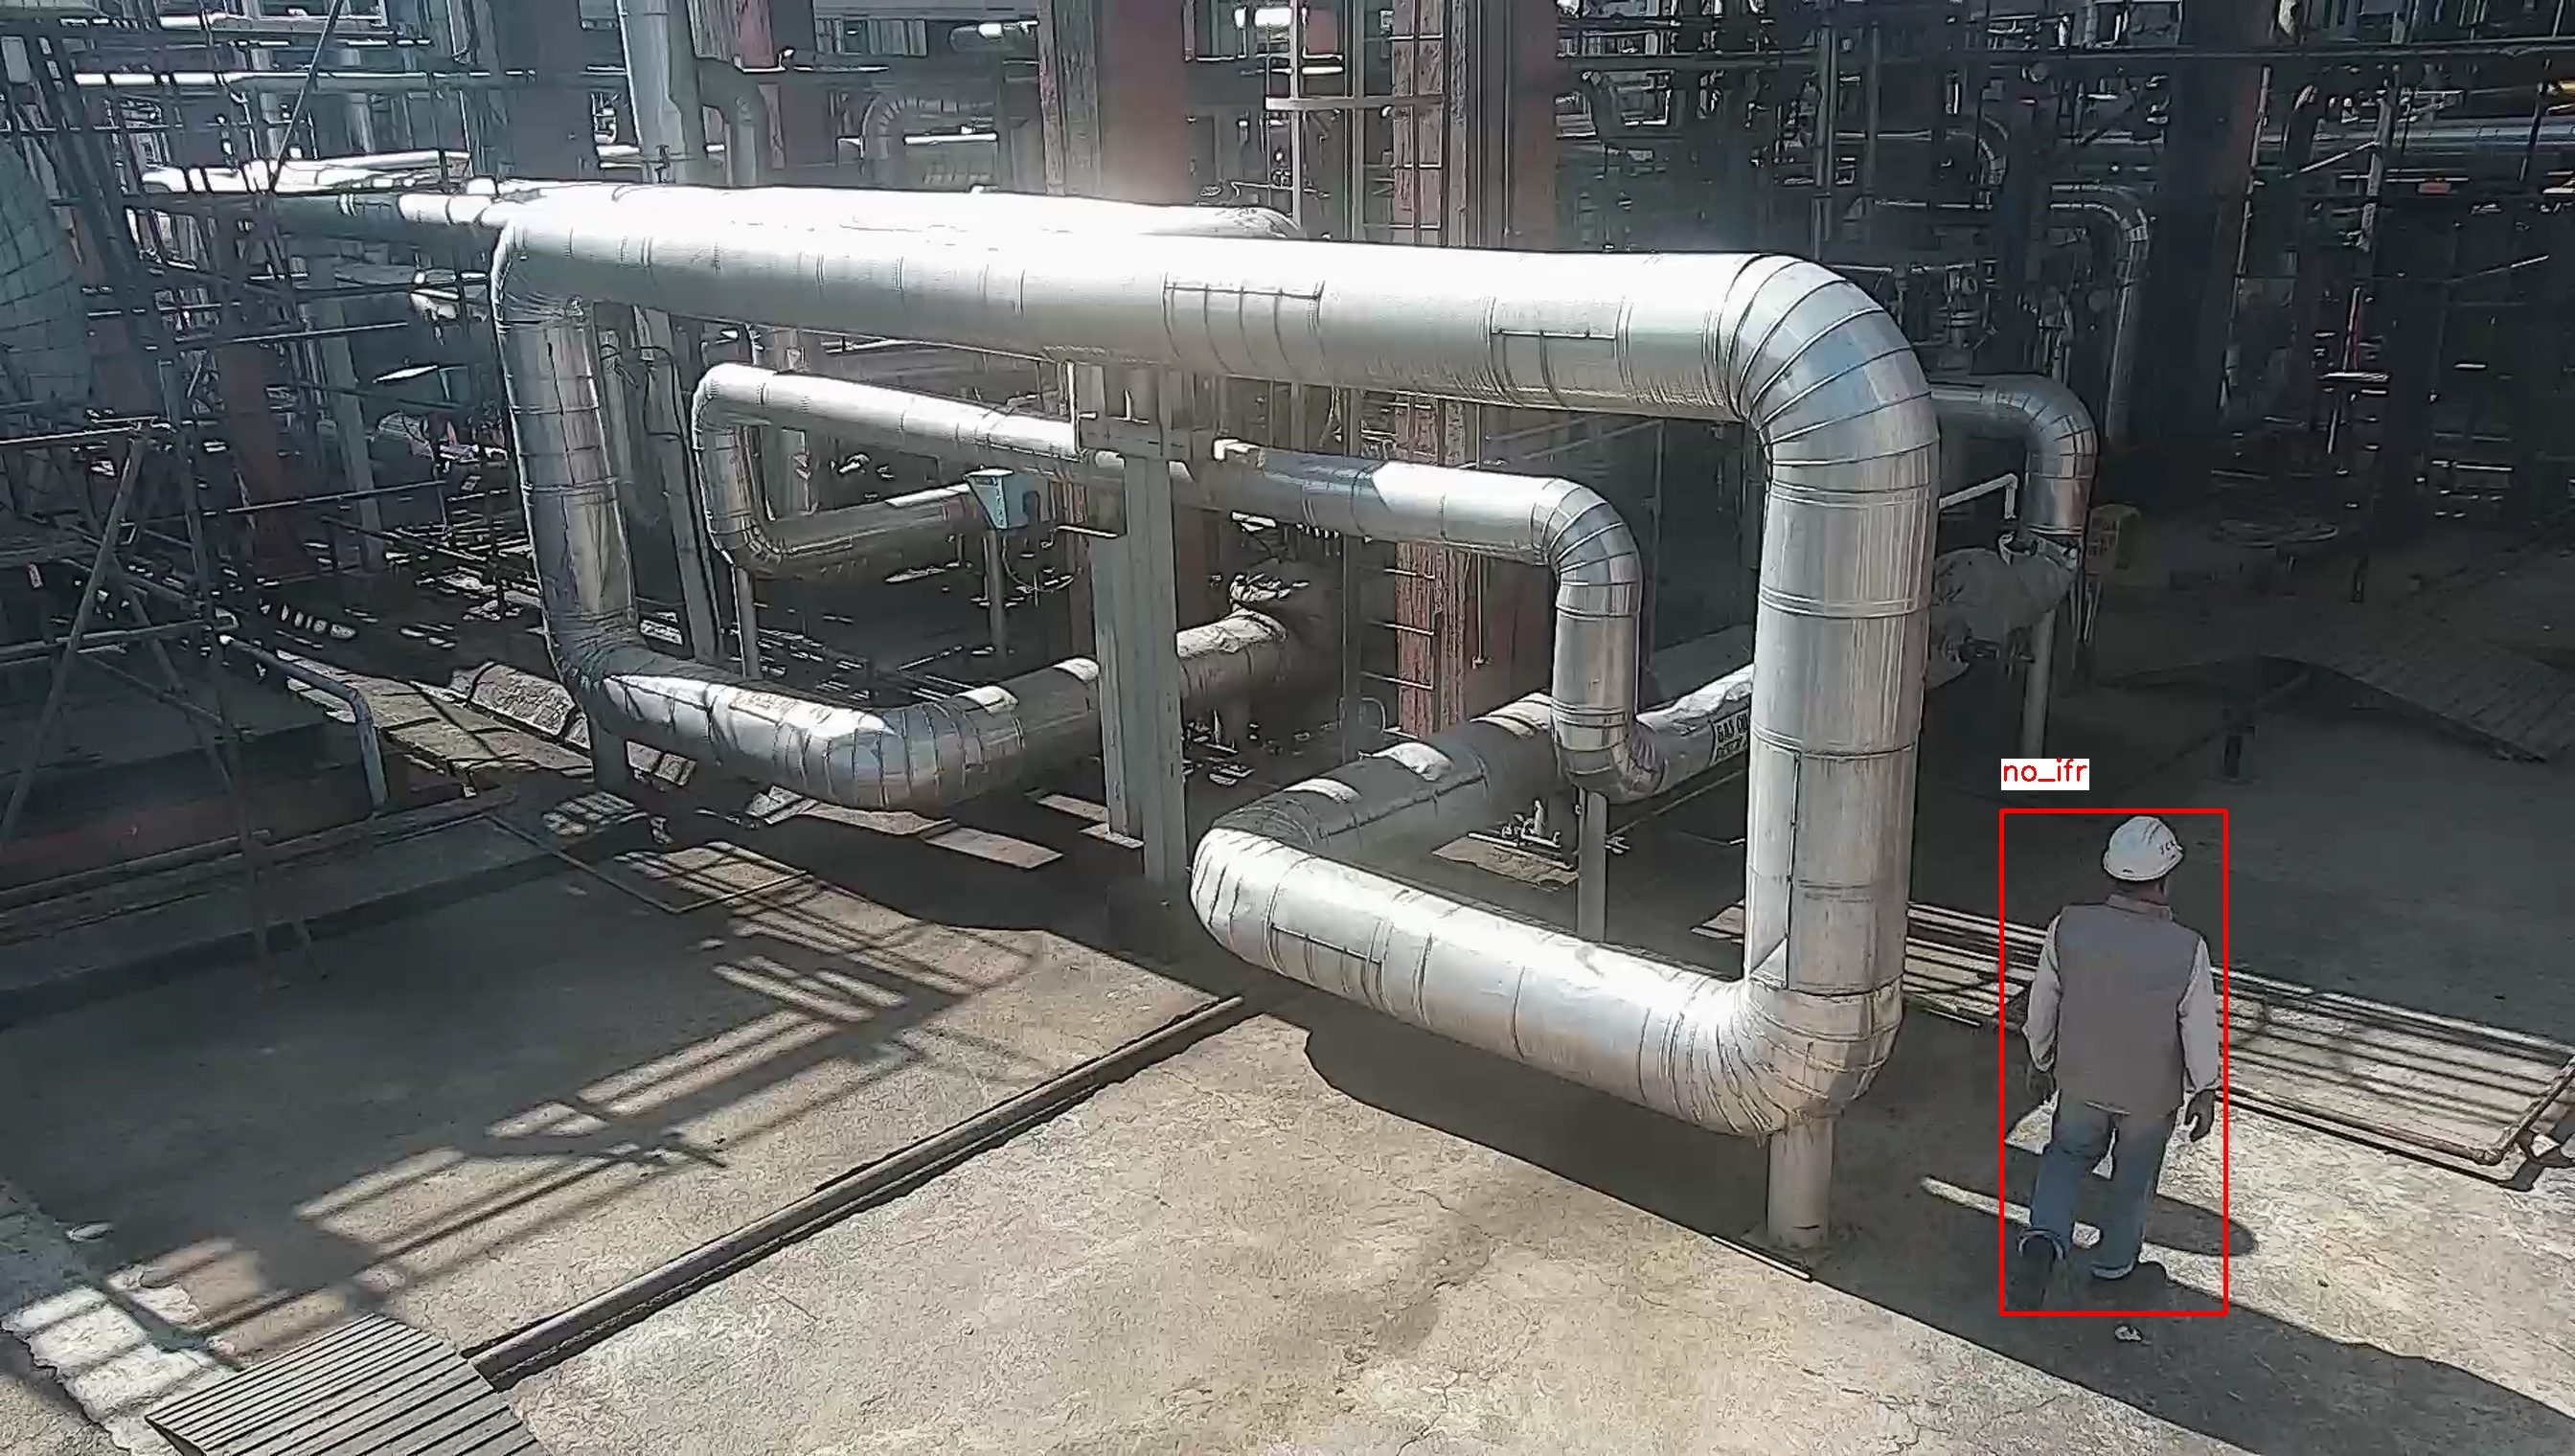Helmets: (2097, 812, 2197, 885)
